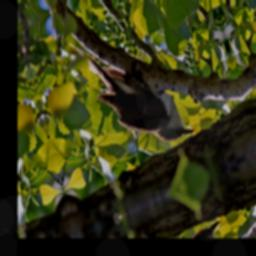Cuckoo: (79, 7, 196, 172)
